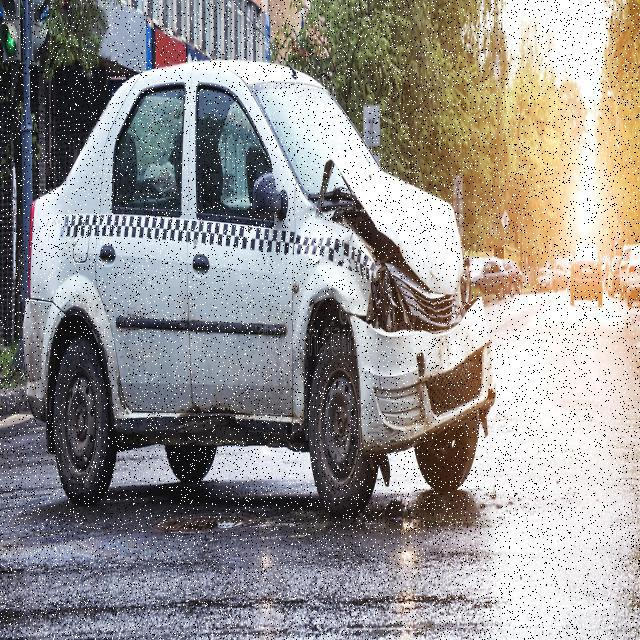RunningBoard-Dent: (114, 389, 238, 433)
bonnet-dent: (312, 144, 466, 299)
front-bumper-dent: (335, 282, 506, 456)
